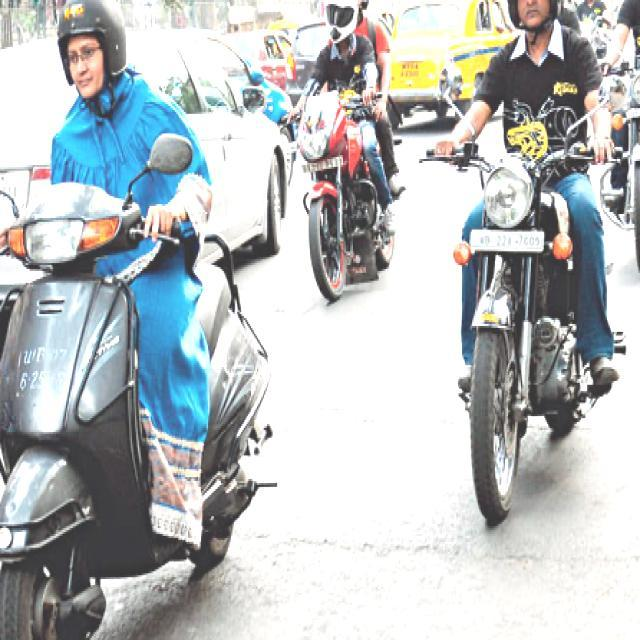Helmet: (48, 0, 140, 104), (499, 0, 572, 37), (320, 0, 362, 43)
